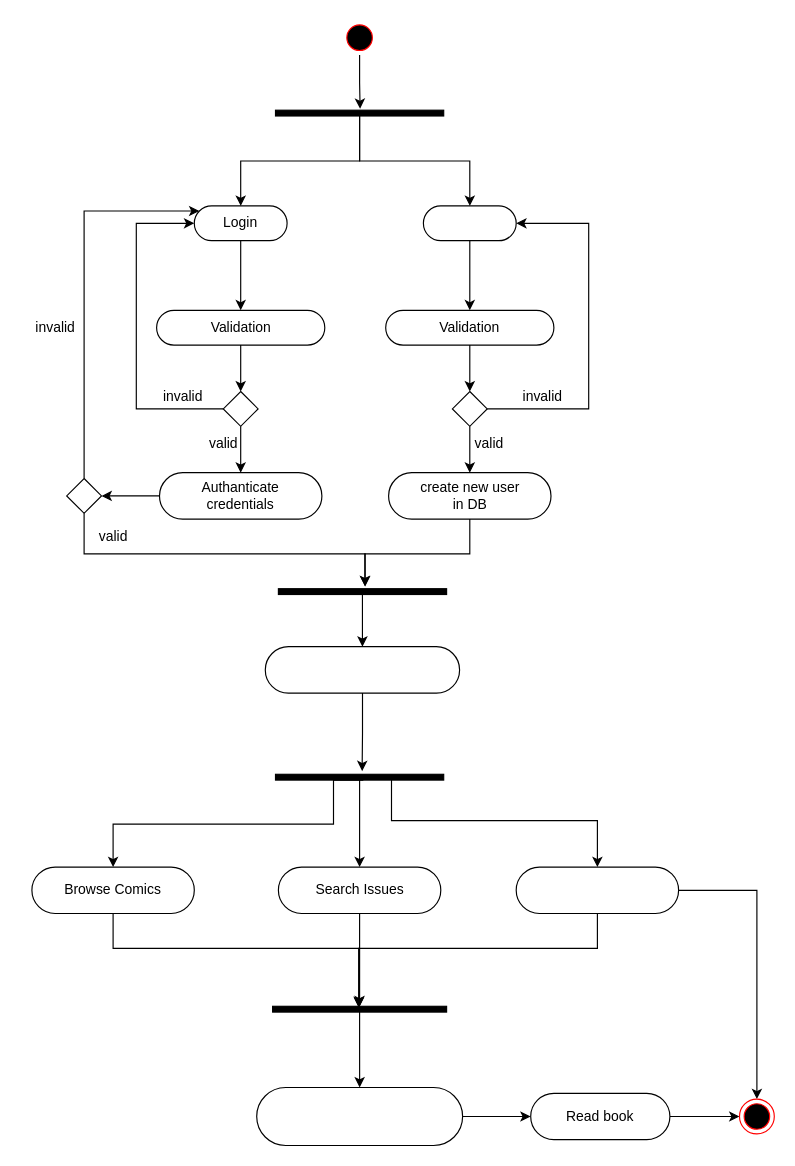
Some shapes in this 795 by 1166 pixel diagram are drawn without their labels. Here are the shapes that lost their labels. From the top down, the centre of each, then its label:
At pixel 469 223: "Signup".
At pixel 362 669: "Landing Page / Home".
At pixel 597 889: "View Profile".
At pixel 359 1116: "View comic Overview (details)".
